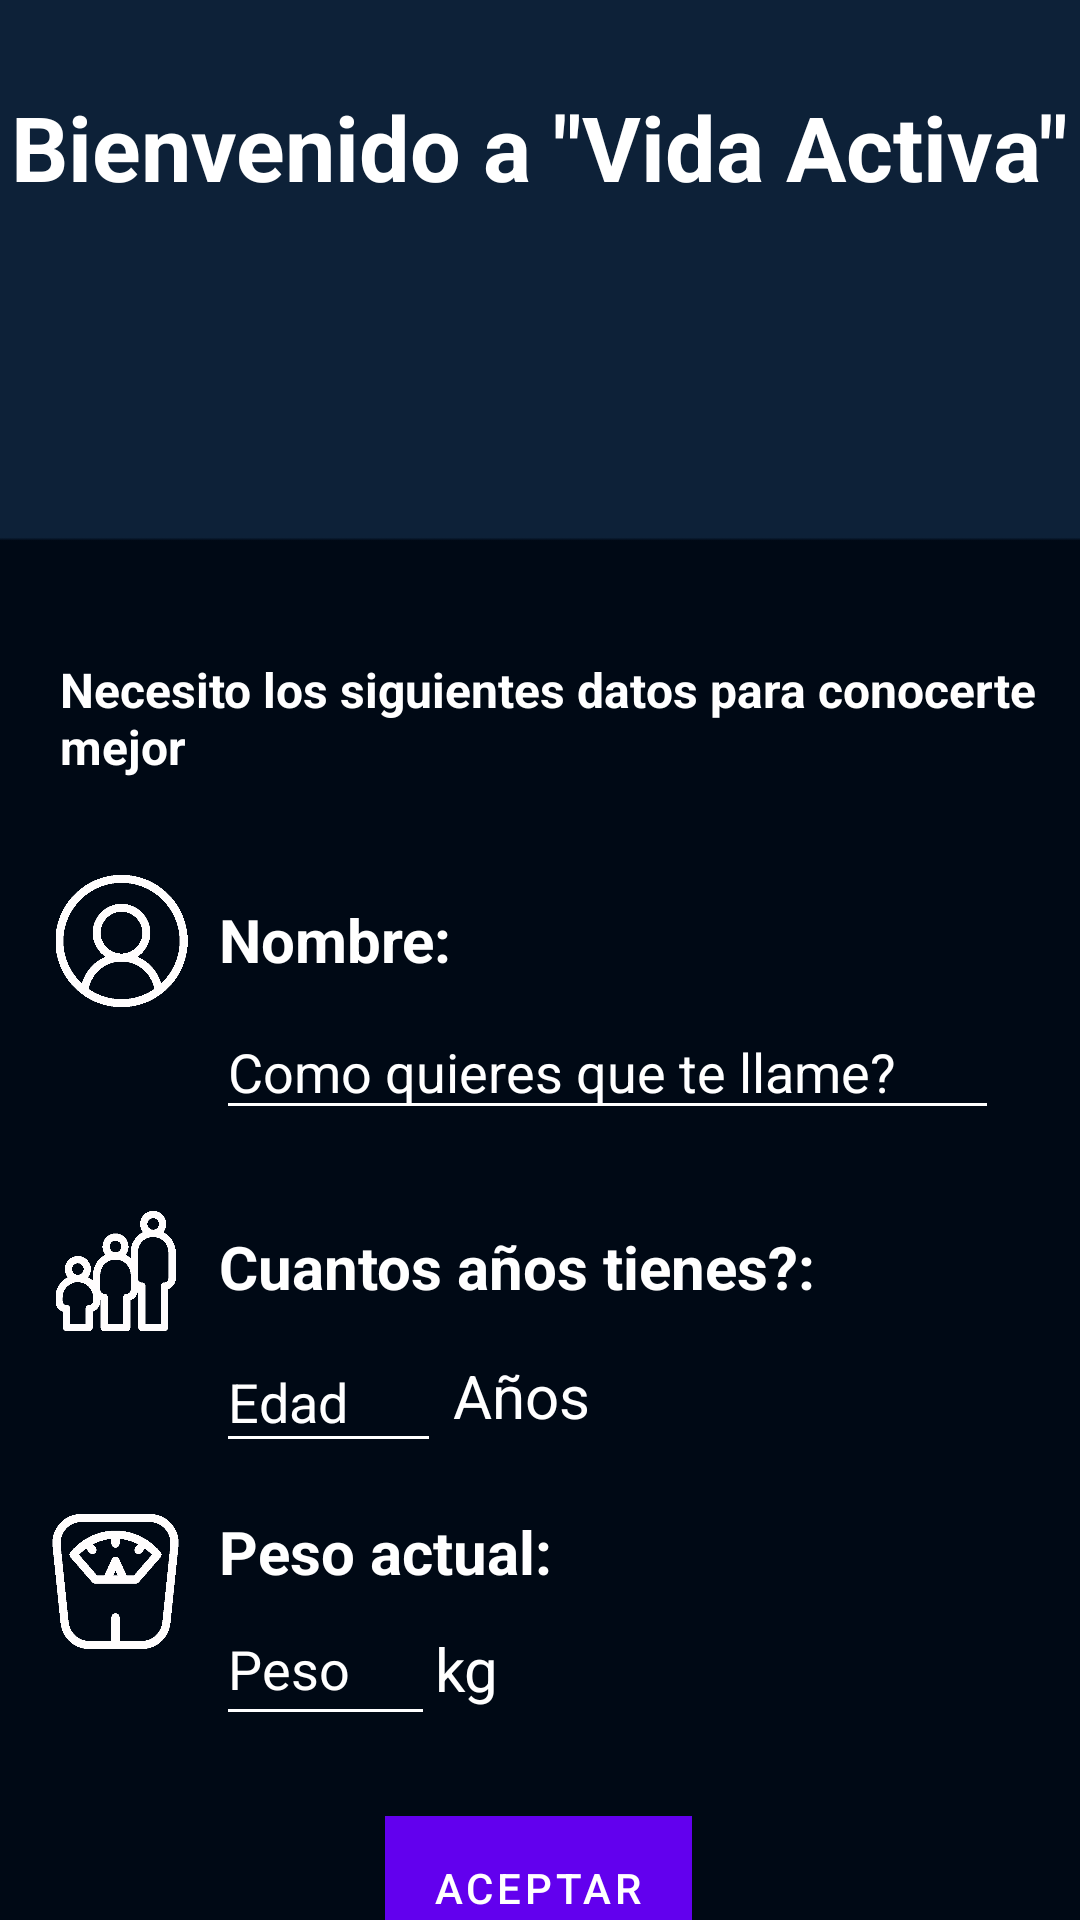

Screen size 1080px×1920px. Icon name, then its center in pixels as (x,y):
bascula: (115,1581)
